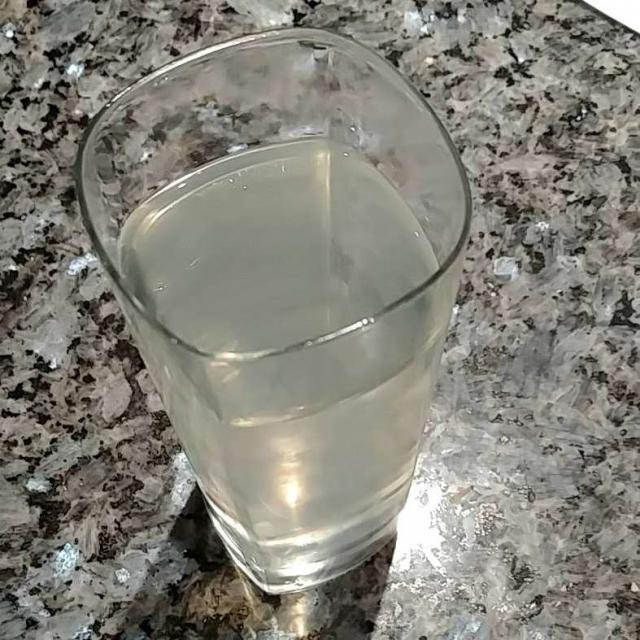drink: (101, 146, 421, 581)
